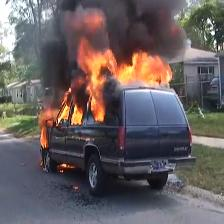fire: (74, 43, 113, 129), (115, 53, 175, 84)
smoke: (59, 0, 188, 43)
